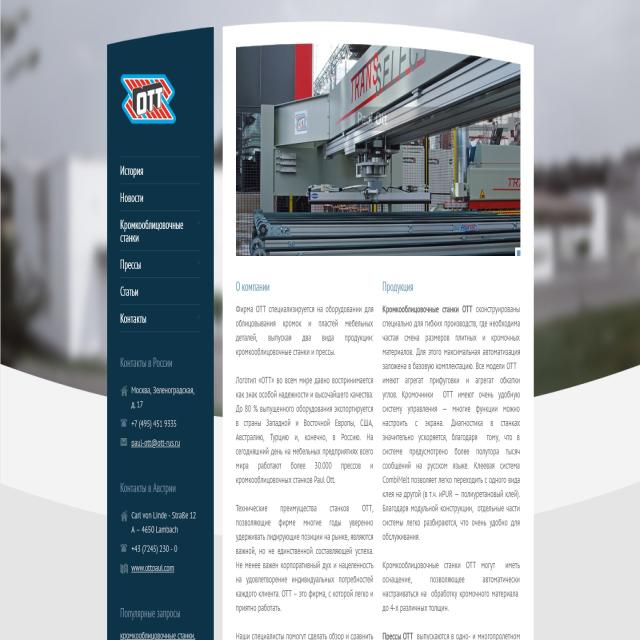button: (118, 210, 199, 248), (118, 250, 199, 279), (118, 304, 199, 330), (117, 186, 199, 210), (117, 158, 198, 182), (119, 280, 198, 304)
heading: (119, 604, 182, 622), (118, 478, 179, 496), (118, 356, 173, 371), (235, 279, 270, 296), (382, 278, 415, 292)
image: (236, 45, 522, 258), (120, 70, 181, 127)
link: (120, 562, 178, 576)
text: (381, 303, 524, 544), (235, 373, 376, 487), (235, 500, 375, 613), (233, 304, 375, 359), (381, 559, 522, 614), (118, 386, 196, 449), (120, 507, 198, 555), (234, 630, 527, 640), (120, 630, 196, 640)
